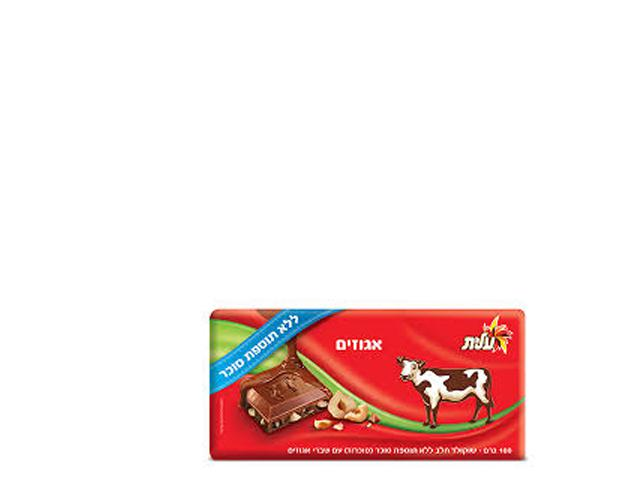chocolate: (211, 306, 538, 456)
